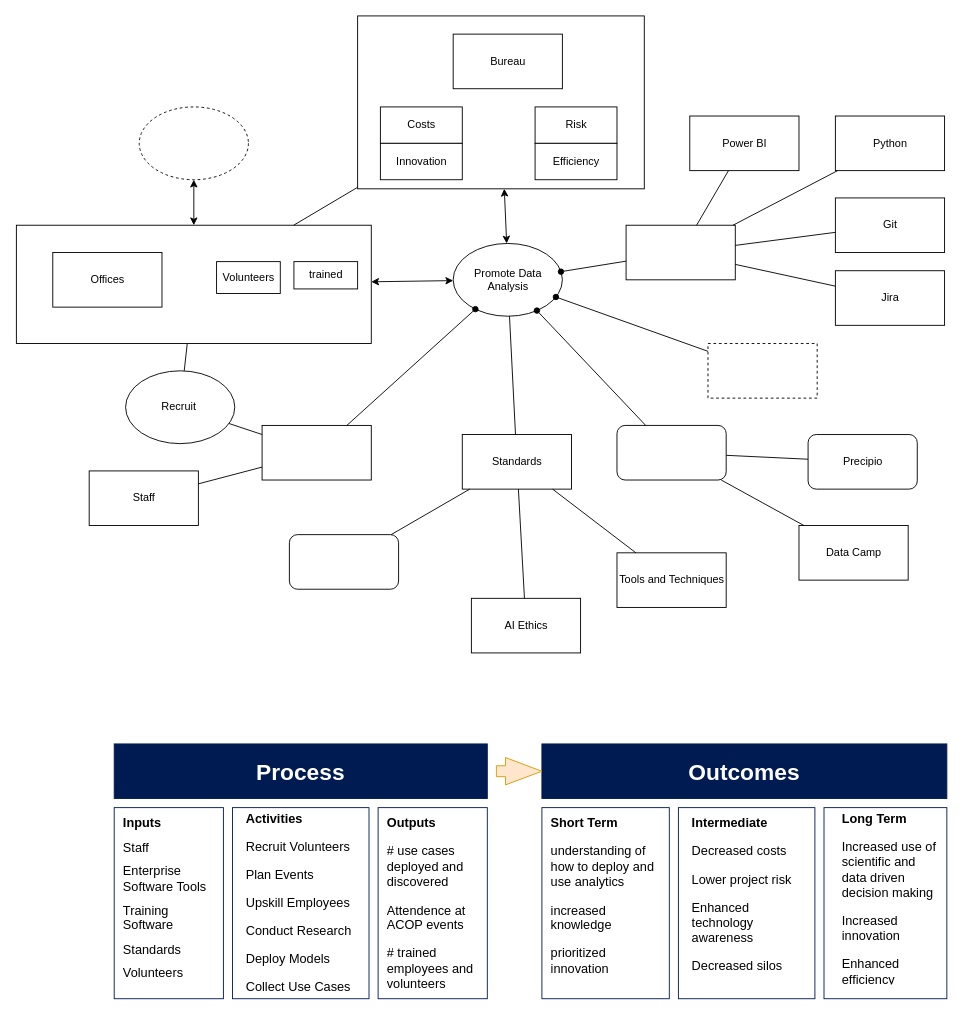
Image size: 963x1015. Some labels were removed from this diagram. Here are the shapes that lost their labels. From the top down, the box of each, then its label:
(138, 106, 248, 180): Old business analytics
(625, 224, 735, 280): Enterprise Software Tools
(707, 343, 817, 398): Data Hub
(261, 425, 371, 480): Enterprise Data Analytics
(616, 425, 726, 480): Training Software
(288, 534, 399, 589): Executive Orders
